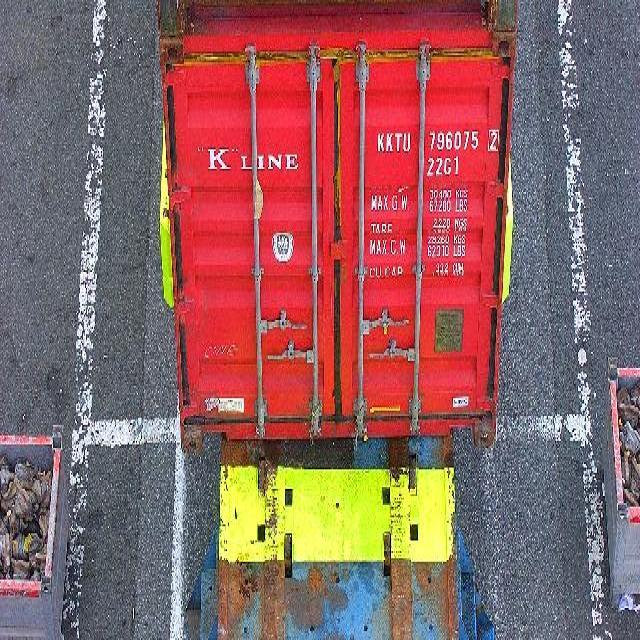ISO: (426, 156, 461, 175)
container_number: (376, 128, 499, 154)
